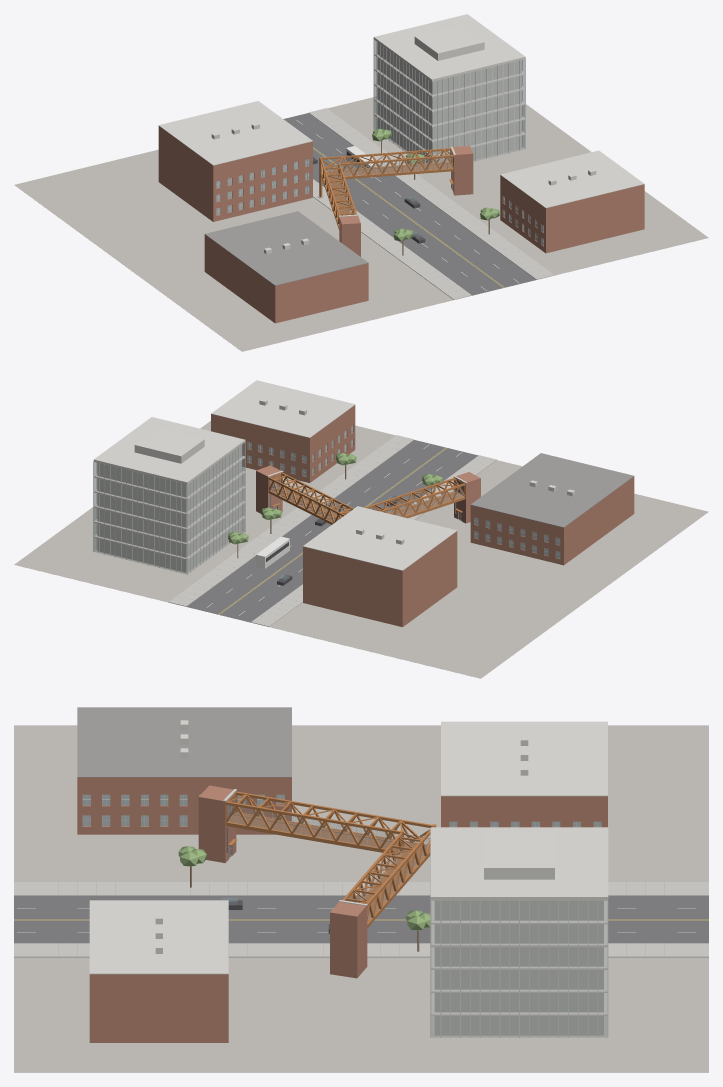
Rendered from clay-weathering-steel-footbridge-clay-v003.glb.
3 views of the same model, one above another, from view 1: azimuth 30°, elevation 25°; view 2: azimuth 150°, elevation 25°; view 3: azimuth 270°, elevation 25° (orthographic). The views are drawn at different scales.
Visible parts, largest first — view 1: CLAY_SAND, CLAY_BRICK, CLAY_PALE, CLAY_GLASS, CLAY_TRIM, CLAY_ASPHALT, CLAY_INTERIOR, CLAY_ROOF, CLAY_CONCRETE, CLAY_RUST, CLAY_DECK, CLAY_PLANTING (+1 smaller); view 2: CLAY_SAND, CLAY_BRICK, CLAY_GLASS, CLAY_PALE, CLAY_TRIM, CLAY_INTERIOR, CLAY_ASPHALT, CLAY_ROOF, CLAY_CONCRETE, CLAY_RUST, CLAY_DECK, CLAY_PLANTING (+2 smaller); view 3: CLAY_SAND, CLAY_BRICK, CLAY_PALE, CLAY_GLASS, CLAY_INTERIOR, CLAY_TRIM, CLAY_ASPHALT, CLAY_ROOF, CLAY_CONCRETE, CLAY_RUST, CLAY_DECK, CLAY_MESH (+2 smaller).
Part boxes in pixels (left/top/right/bottom): CLAY_SAND: left=14, top=96, right=708, bottom=351; CLAY_BRICK: left=158, top=126, right=644, bottom=323; CLAY_PALE: left=158, top=25, right=644, bottom=254; CLAY_GLASS: left=216, top=40, right=543, bottom=245; CLAY_TRIM: left=216, top=14, right=543, bottom=245; CLAY_ASPHALT: left=283, top=113, right=535, bottom=295; CLAY_INTERIOR: left=377, top=42, right=521, bottom=163; CLAY_ROOF: left=205, top=211, right=368, bottom=285; CLAY_CONCRETE: left=308, top=108, right=554, bottom=299; CLAY_RUST: left=319, top=148, right=454, bottom=229; CLAY_DECK: left=324, top=162, right=452, bottom=223; CLAY_PLANTING: left=372, top=128, right=499, bottom=241; CLAY_SAND: left=14, top=421, right=708, bottom=678; CLAY_BRICK: left=211, top=405, right=634, bottom=627; CLAY_GLASS: left=94, top=425, right=560, bottom=580; CLAY_PALE: left=134, top=380, right=575, bottom=570; CLAY_TRIM: left=93, top=417, right=560, bottom=574; CLAY_INTERIOR: left=97, top=445, right=241, bottom=572; CLAY_ASPHALT: left=186, top=440, right=478, bottom=622; CLAY_ROOF: left=470, top=453, right=633, bottom=527; CLAY_CONCRETE: left=168, top=435, right=496, bottom=626; CLAY_RUST: left=268, top=472, right=465, bottom=524; CLAY_DECK: left=270, top=486, right=463, bottom=521; CLAY_PLANTING: left=228, top=453, right=442, bottom=544; CLAY_SAND: left=14, top=725, right=708, bottom=1072; CLAY_BRICK: left=77, top=777, right=607, bottom=1042; CLAY_PALE: left=89, top=720, right=607, bottom=974; CLAY_GLASS: left=83, top=794, right=607, bottom=1037; CLAY_INTERIOR: left=434, top=900, right=603, bottom=1035; CLAY_TRIM: left=82, top=794, right=608, bottom=1037; CLAY_ASPHALT: left=14, top=896, right=708, bottom=943; CLAY_ROOF: left=77, top=707, right=291, bottom=777; CLAY_CONCRETE: left=14, top=882, right=708, bottom=957; CLAY_RUST: left=225, top=791, right=436, bottom=928; CLAY_DECK: left=228, top=813, right=430, bottom=922; CLAY_MESH: left=227, top=807, right=429, bottom=921.
Bounding box in the file's own units: 130 × 26.6 × 110.
